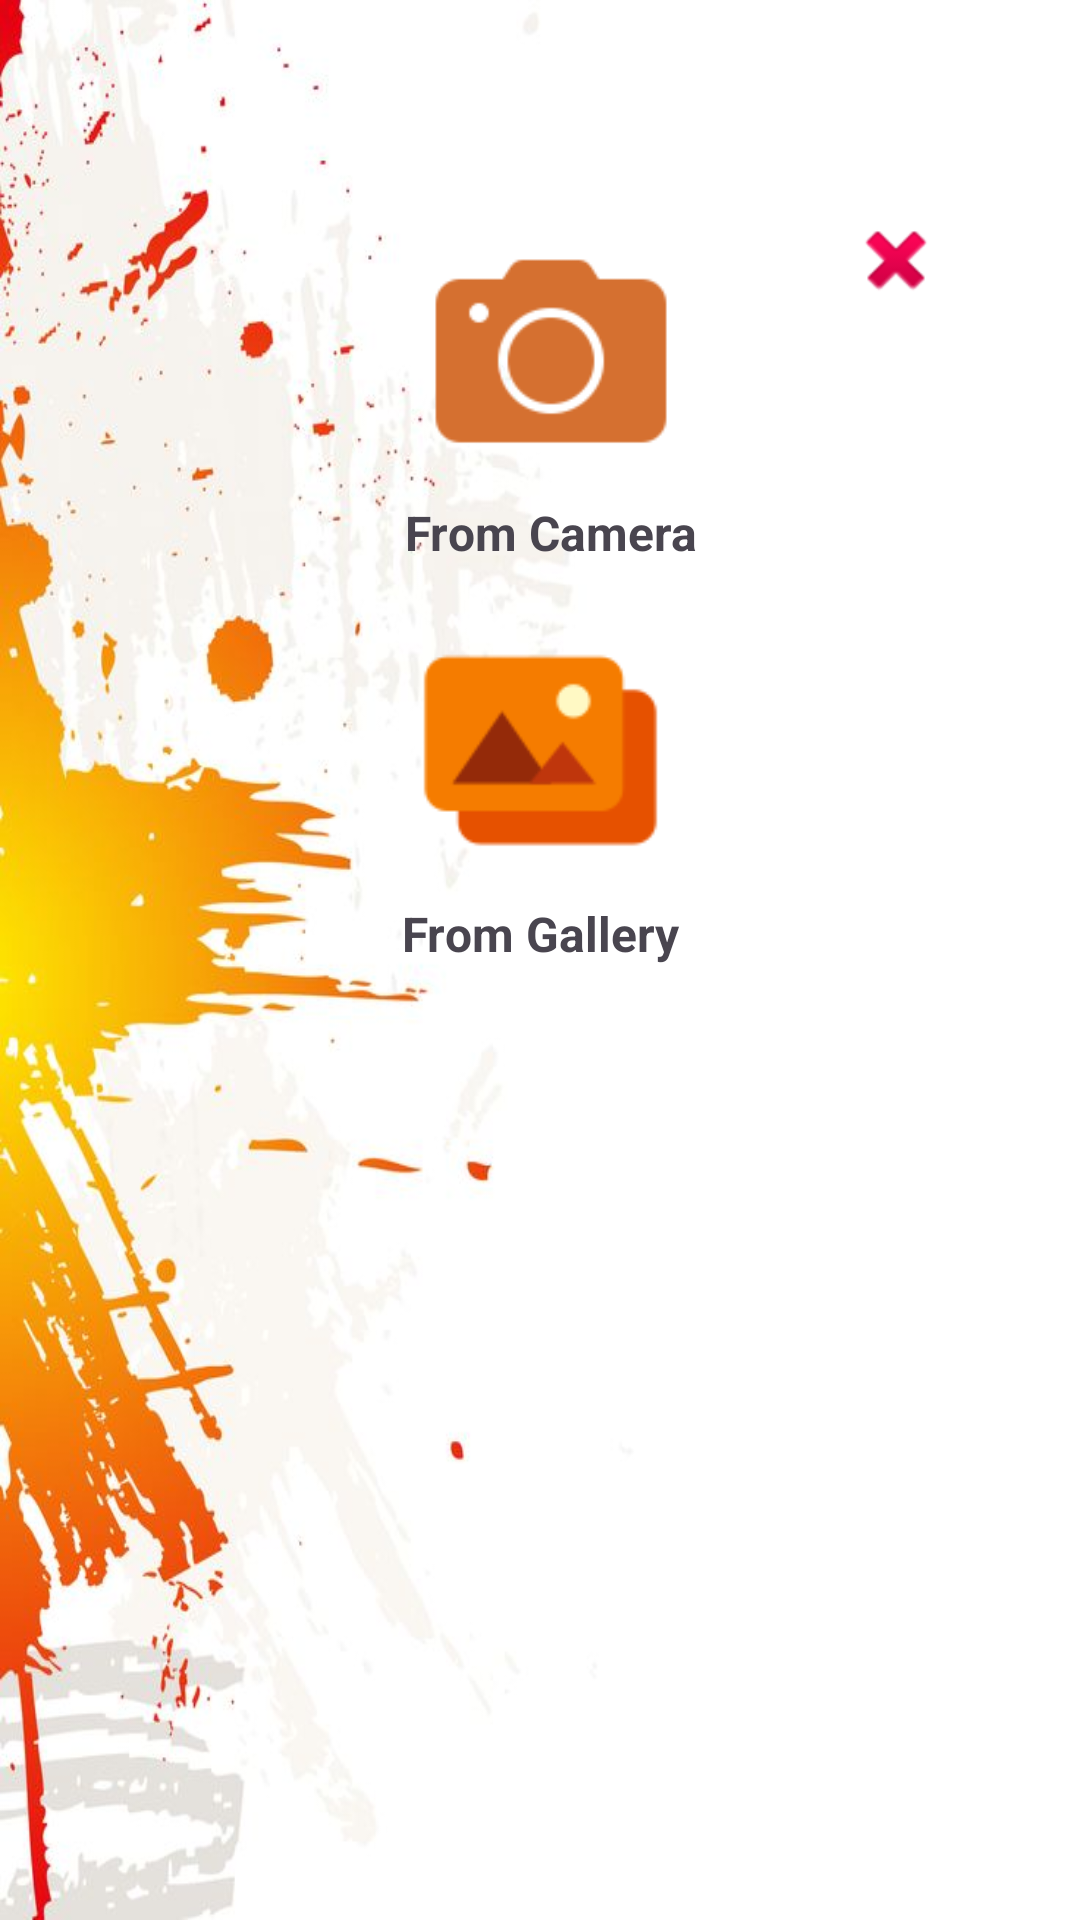

Locate icon controls on the screen. Image size 1080w x 1920h, boxes as detection(x1, y1, x2, y2).
delete: detection(865, 231, 927, 290)
